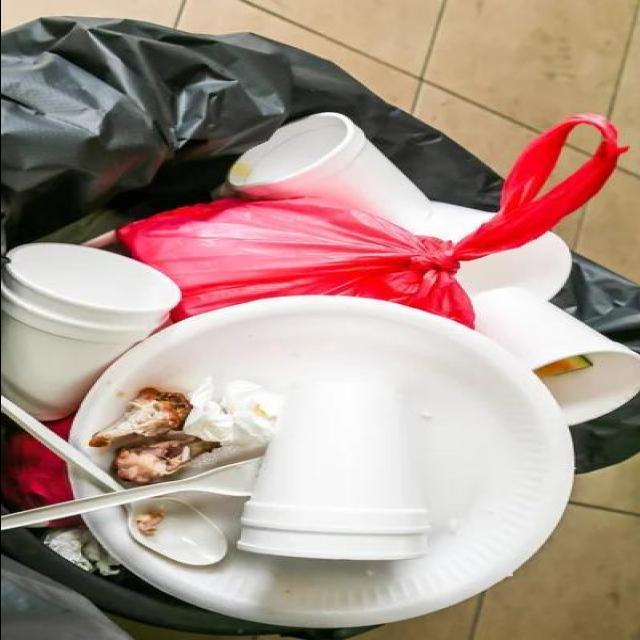Disposable: (69, 299, 569, 626), (238, 382, 430, 560), (1, 244, 179, 421), (228, 112, 432, 232), (472, 288, 640, 425), (1, 458, 261, 530), (2, 396, 122, 491), (455, 232, 569, 300), (125, 498, 224, 565), (416, 201, 492, 241)
Garbage: (2, 112, 640, 628)
Plastic_Bag: (115, 115, 625, 328), (1, 431, 72, 510), (45, 416, 72, 439), (43, 516, 81, 526)
